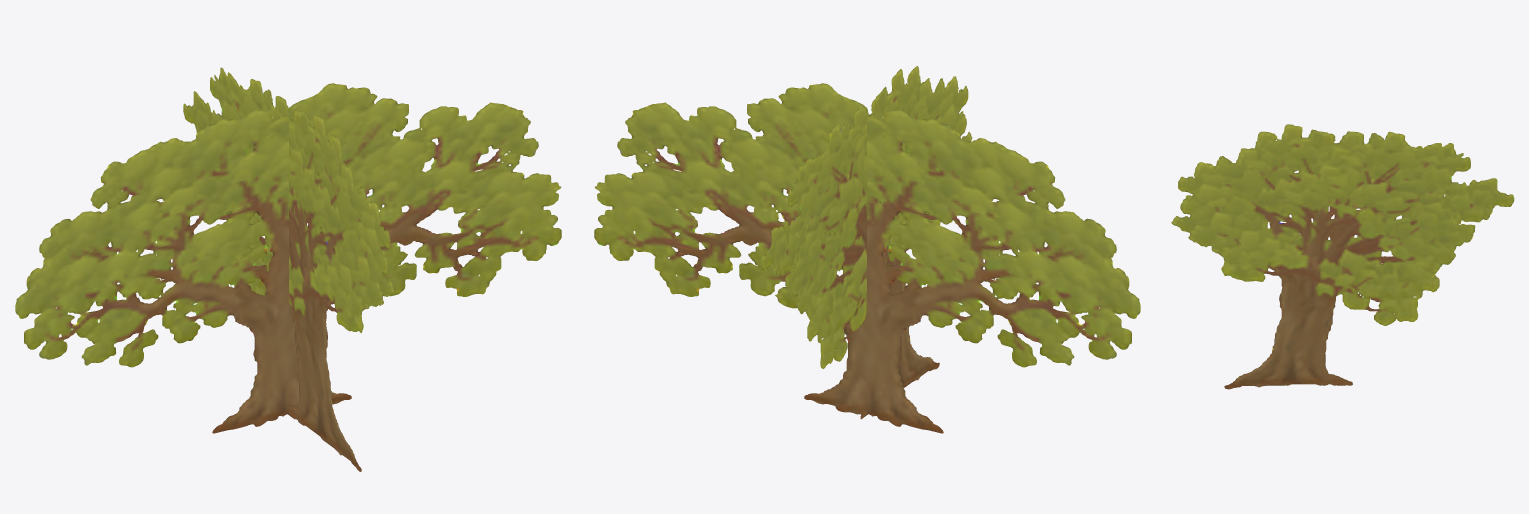
Rendered from tree-8-far.glb.
3 views of the same model, side by side, from view 1: azimuth 30°, elevation 25°; view 2: azimuth 150°, elevation 25°; view 3: azimuth 270°, elevation 25° (orthographic). The views are drawn at different scales.
Bounding box in the file's own units: 0.9995 × 0.5747 × 0.6694.
Materials: 1 (1 with a texture image).
